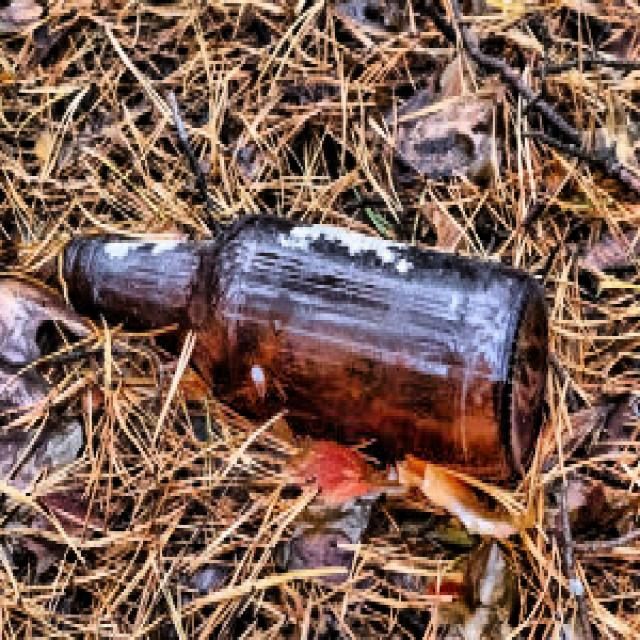glass: (64, 210, 551, 485)
